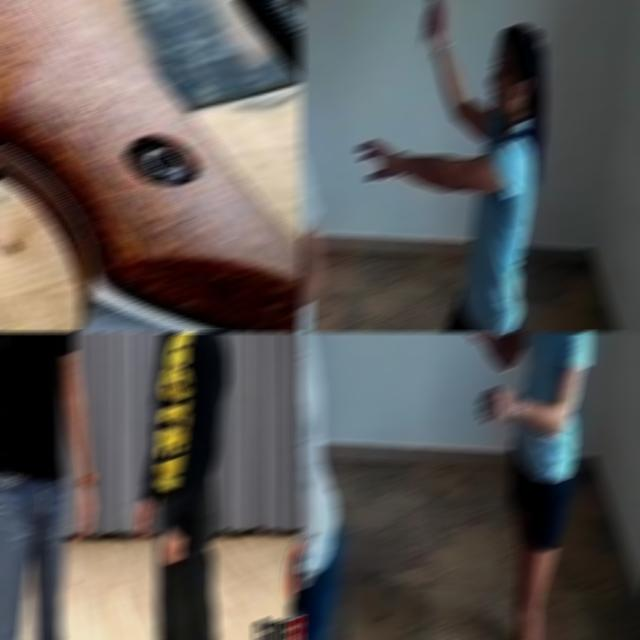Knife_Handle: (419, 0, 447, 48), (420, 0, 446, 44)
